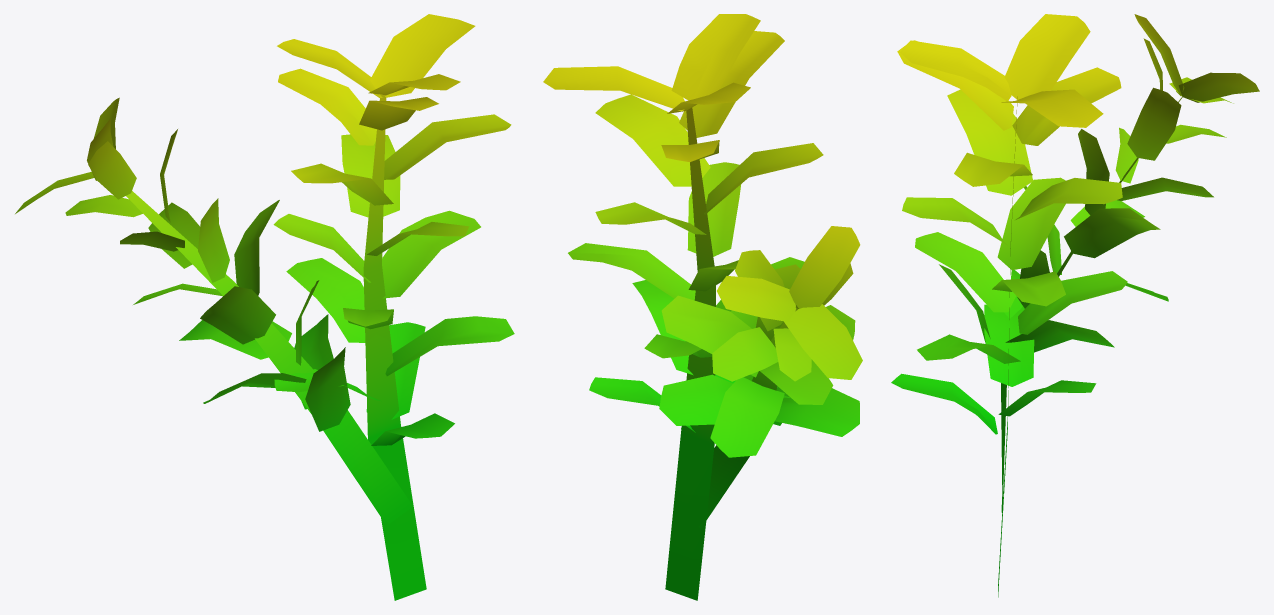
Rendered from Lingonberry_LOD2_Var10.fbx.
3 renders of one model, left to right at view 1: azimuth 30°, elevation 25°; view 2: azimuth 150°, elevation 25°; view 3: azimuth 270°, elevation 25°, orthographic. The views are drawn at different scales.
Visible parts, largest first — view 1: _9dfz_Var10_LOD2; view 2: _9dfz_Var10_LOD2; view 3: _9dfz_Var10_LOD2.
Boxes of the visible parts, left/top/right/bottom form: _9dfz_Var10_LOD2: left=15, top=14, right=514, bottom=600; _9dfz_Var10_LOD2: left=543, top=14, right=862, bottom=600; _9dfz_Var10_LOD2: left=891, top=14, right=1259, bottom=597.
Bounding box in the file's own units: 6.32 × 8.7 × 5.39.
